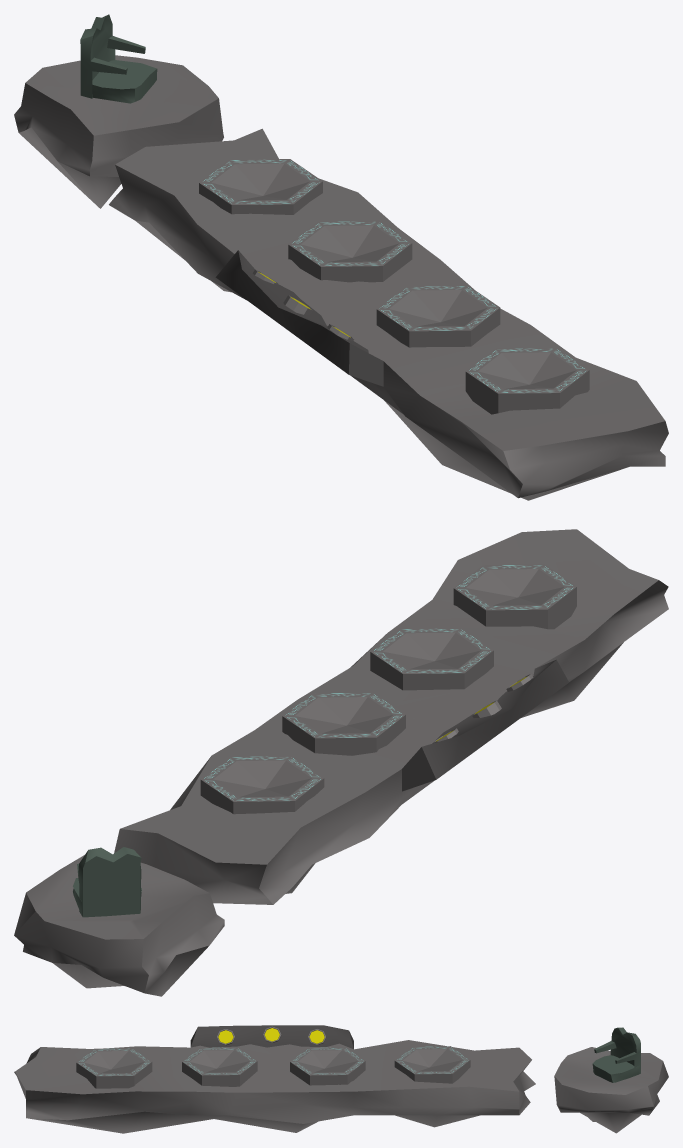
File: Inventory+chair.fbx
The picture shows the model from 3 angles, top to bottom: view 1: azimuth 30°, elevation 25°; view 2: azimuth 150°, elevation 25°; view 3: azimuth 270°, elevation 25°; orthographic projection. The views are drawn at different scales.
Visible parts, largest first — view 1: polySurface5, pasted__pCube2, pasted__polySurface2, polySurface2, polySurface3, polySurface4, Chair; view 2: polySurface5, pasted__pCube2, pasted__polySurface2, polySurface2, polySurface3, polySurface4, Chair; view 3: polySurface5, pasted__pCube2, pasted__polySurface2, polySurface2, polySurface3, polySurface4, Chair.
Part boxes in pixels (<box>): polySurface5: <box>109,128,668,500</box>; pasted__pCube2: <box>14,55,223,208</box>; pasted__polySurface2: <box>465,347,589,414</box>; polySurface2: <box>376,285,500,347</box>; polySurface3: <box>288,220,412,282</box>; polySurface4: <box>199,159,322,214</box>; Chair: <box>80,14,157,103</box>; polySurface5: <box>114,529,668,904</box>; pasted__pCube2: <box>14,855,224,996</box>; pasted__polySurface2: <box>453,564,576,629</box>; polySurface2: <box>370,628,493,690</box>; polySurface3: <box>282,692,405,755</box>; polySurface4: <box>200,756,324,814</box>; Chair: <box>73,847,141,917</box>; polySurface5: <box>14,1025,535,1133</box>; pasted__pCube2: <box>554,1047,668,1133</box>; pasted__polySurface2: <box>76,1048,152,1088</box>; polySurface2: <box>182,1047,257,1086</box>; polySurface3: <box>290,1047,365,1085</box>; polySurface4: <box>394,1046,470,1083</box>; Chair: <box>592,1027,640,1082</box>.
Size of the model in its own units: 2.85 by 2.14 by 12.81.
Materials: 10 (2 with a texture image).
